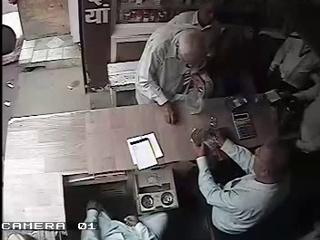Normal: (190, 126, 294, 240), (134, 1, 222, 124), (80, 199, 168, 240)
